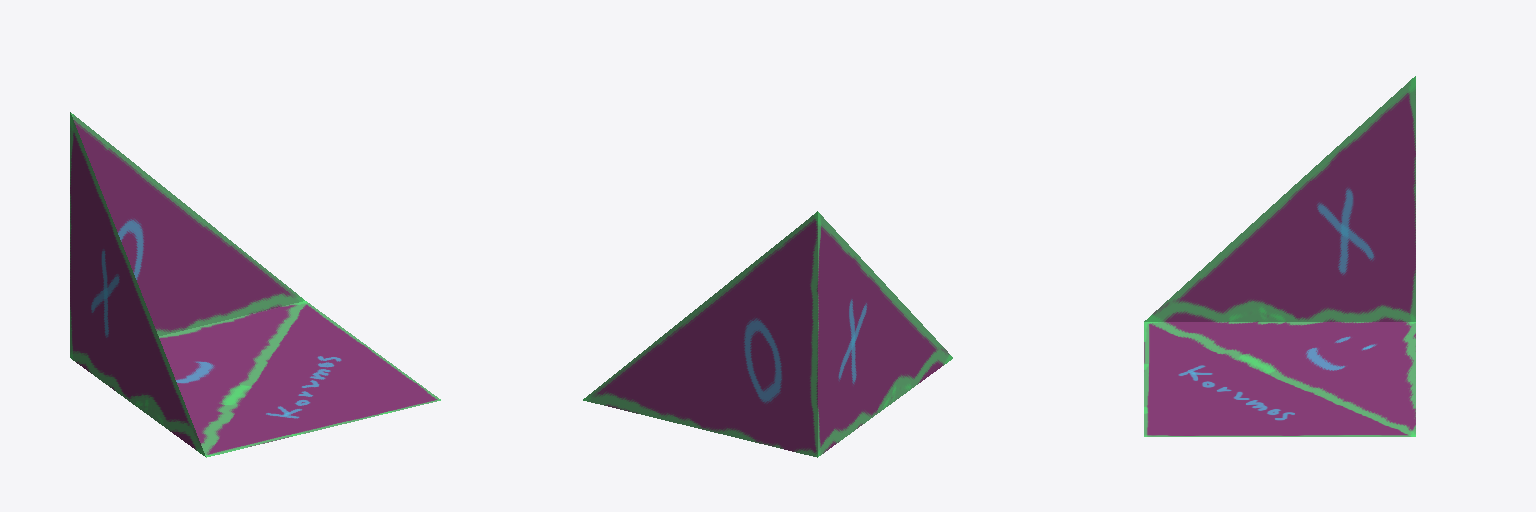
3 views of the same model, side by side, from view 1: azimuth 30°, elevation 25°; view 2: azimuth 150°, elevation 25°; view 3: azimuth 270°, elevation 25° (orthographic).
Visible parts, largest first — view 1: Cube; view 2: Cube; view 3: Cube.
Part boxes in pixels (x1,y1,x2,y2): Cube: (70,112,440,457); Cube: (583,211,952,457); Cube: (1144,76,1415,436).
Bounding box in the file's own units: 2 × 2 × 2.
Materials: 1 (1 with a texture image).